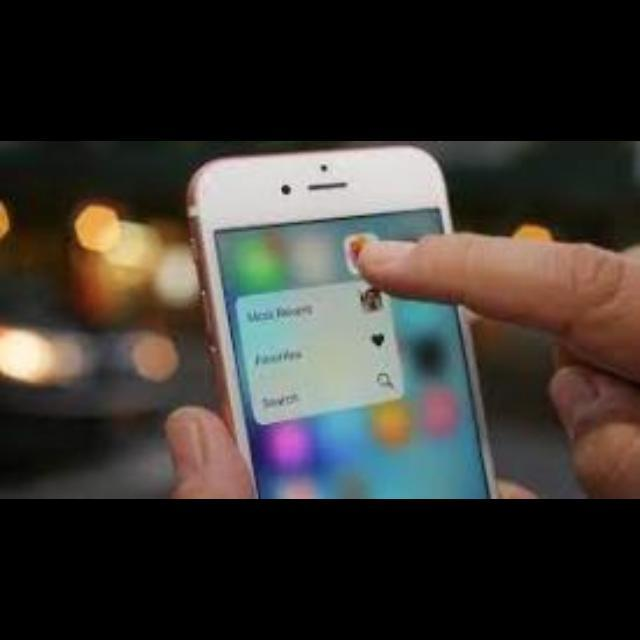Phone: (186, 155, 494, 499)
